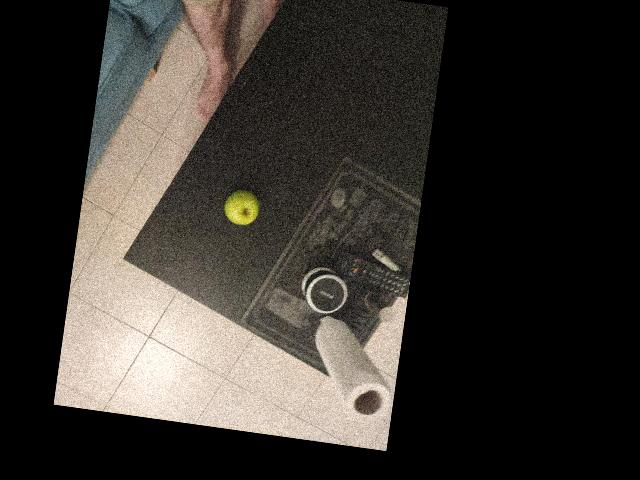apple: (154, 233, 209, 281)
